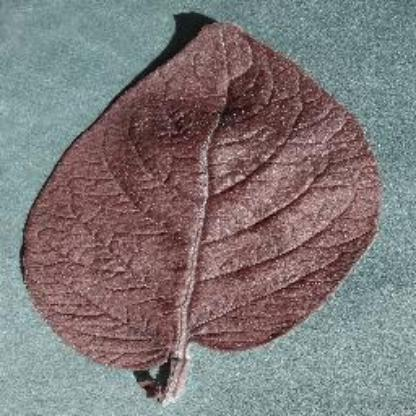Healthy-plant: (11, 18, 383, 394)
